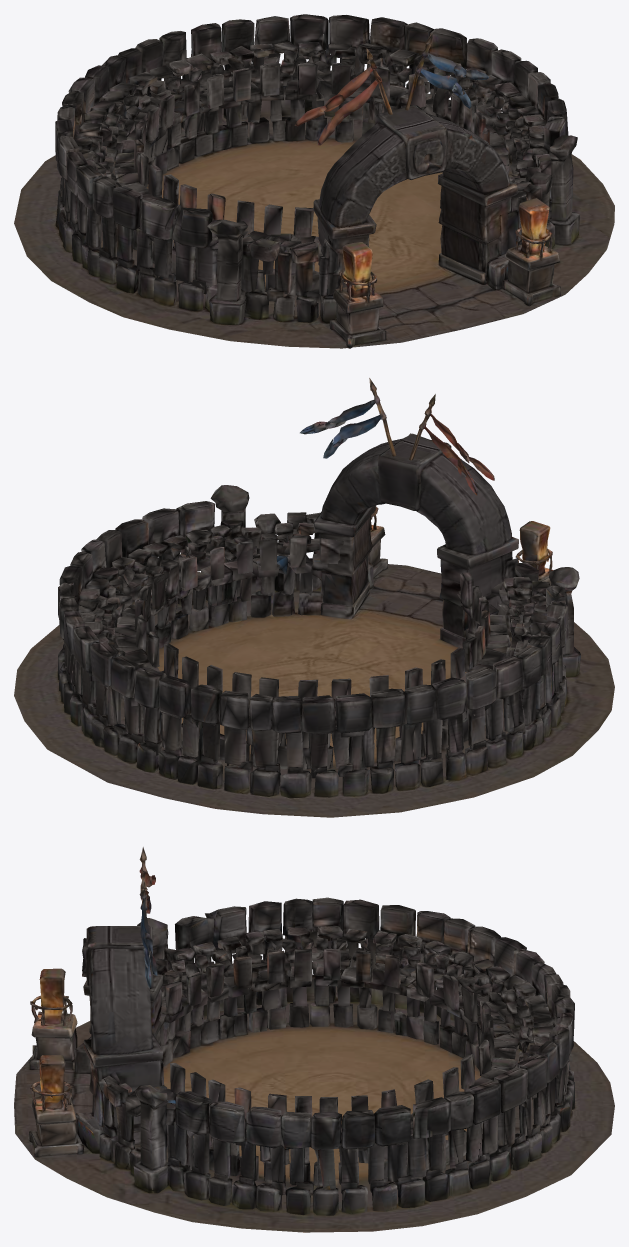
Rendered from praca_arena.glb.
The picture shows the model from 3 angles, top to bottom: view 1: azimuth 30°, elevation 25°; view 2: azimuth 150°, elevation 25°; view 3: azimuth 270°, elevation 25°; orthographic projection.
Parts seen in each view (by area): view 1: mesh_node; view 2: mesh_node; view 3: mesh_node.
Part boxes in pixels (box(x1,y1,x2,y2)): mesh_node: box(14, 14, 614, 348); mesh_node: box(14, 378, 614, 817); mesh_node: box(14, 847, 614, 1232).
Bounding box in the file's own units: 0.6678 × 0.3 × 0.6678.
Materials: 1 (1 with a texture image).
